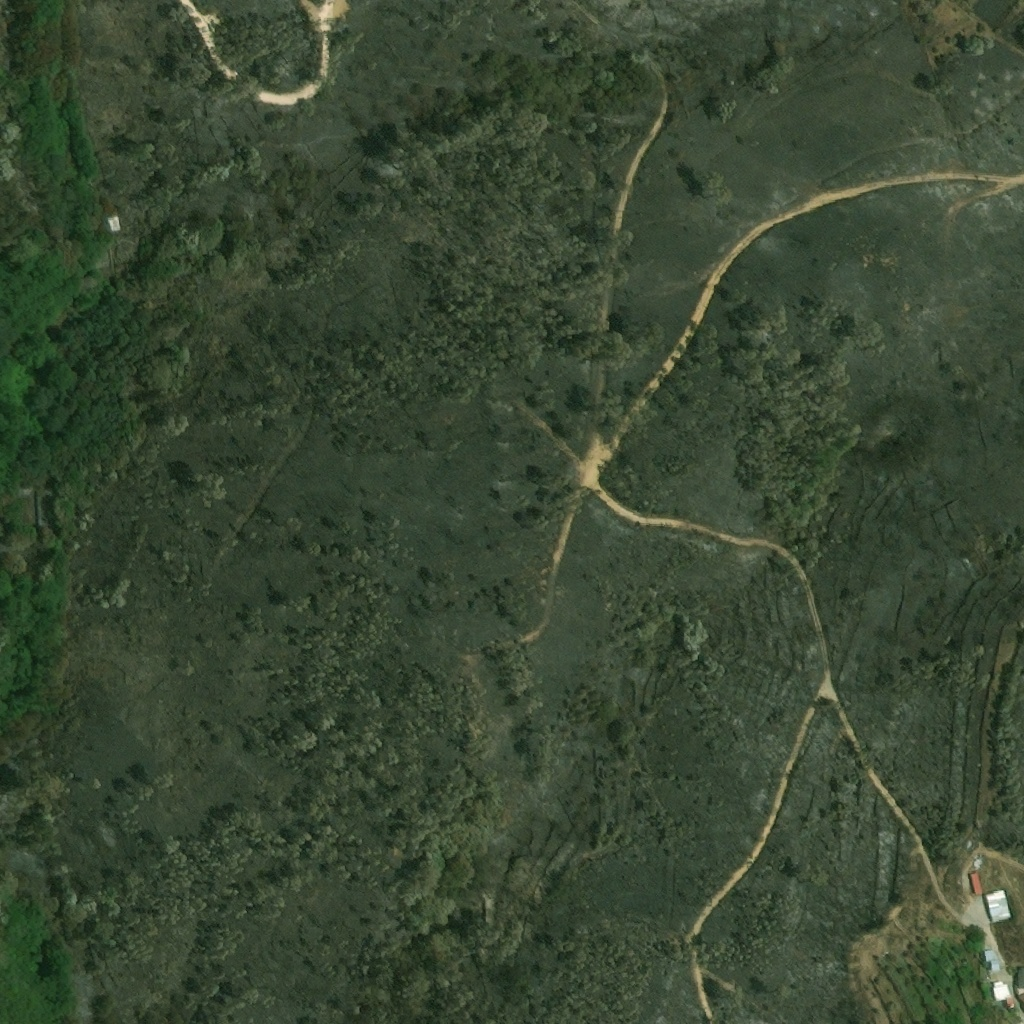0 no-damage: (984, 889, 1015, 924), (982, 943, 1002, 972), (969, 871, 984, 896), (994, 982, 1012, 1001), (1016, 966, 1023, 998), (109, 217, 122, 232), (1008, 996, 1015, 1003)
